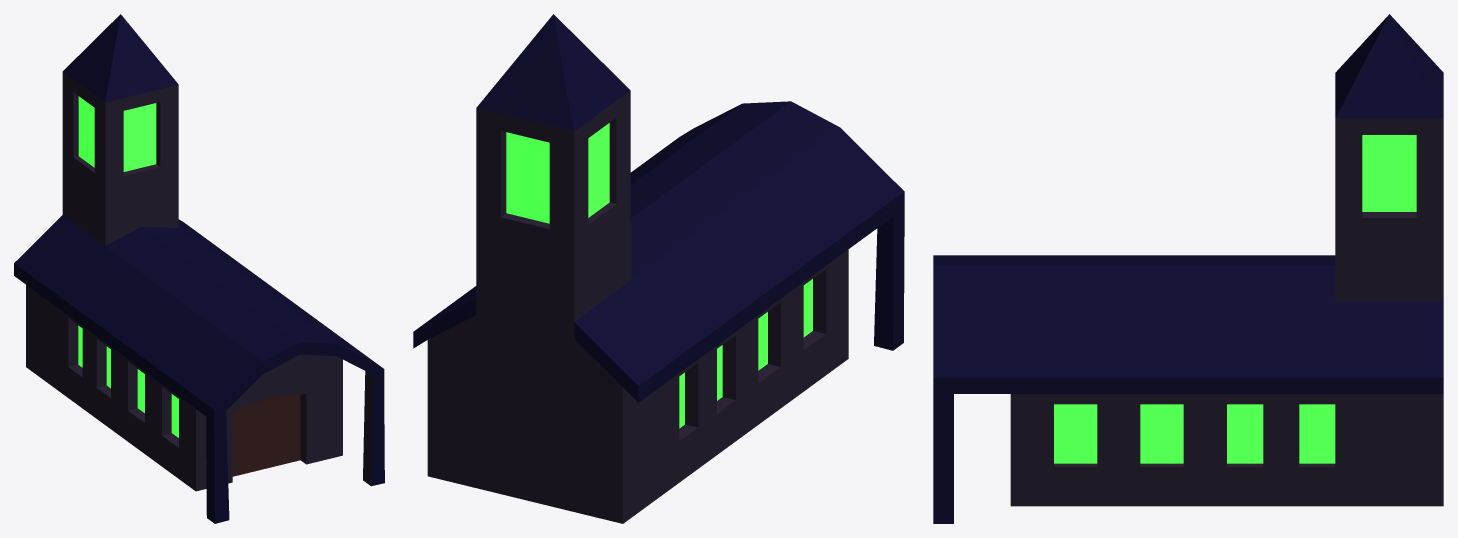
The model's file is Chapel.glb.
3 views of the same model, side by side, from view 1: azimuth 30°, elevation 25°; view 2: azimuth 150°, elevation 25°; view 3: azimuth 270°, elevation 25° (orthographic). The views are drawn at different scales.
Parts seen in each view (by area): view 1: Chapel; view 2: Chapel; view 3: Chapel.
Boxes of the visible parts, bbox=[...] form: Chapel: bbox=[14, 14, 384, 523]; Chapel: bbox=[413, 14, 904, 523]; Chapel: bbox=[933, 14, 1443, 523].
Size of the model in its own units: 6.95 by 13.97 by 14.14.
